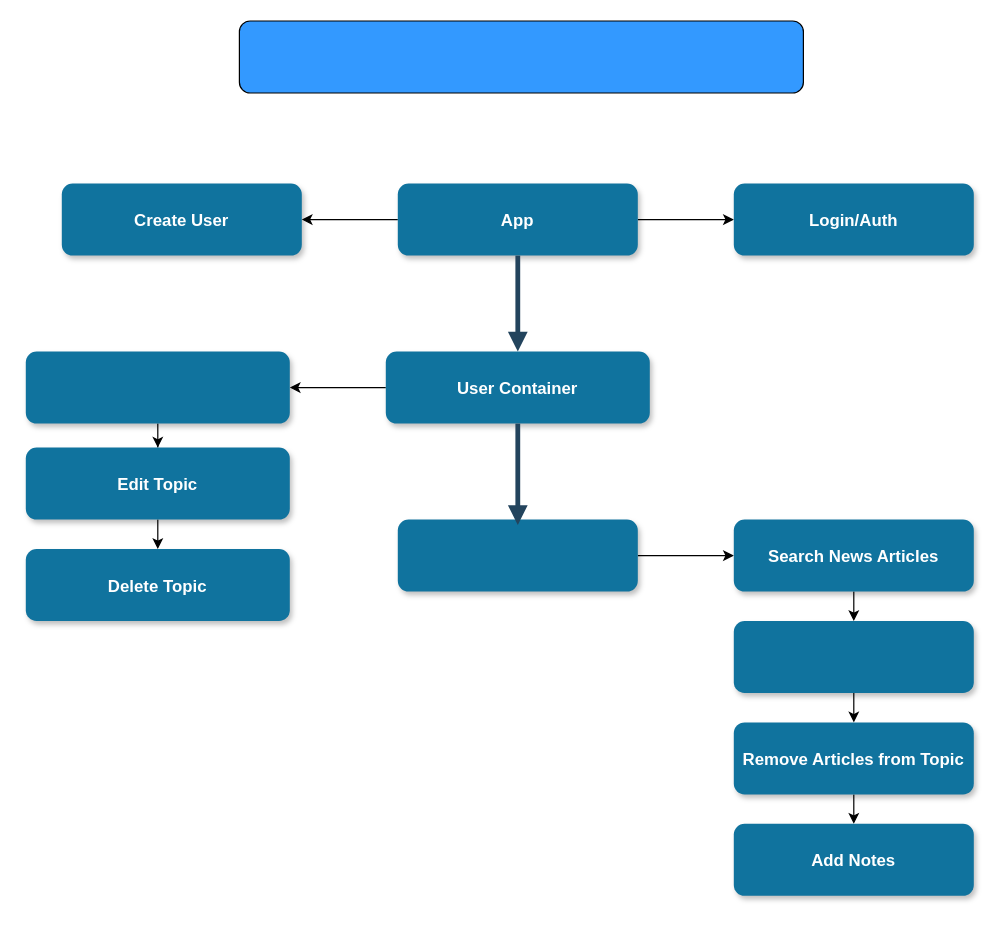
This 1001x925 diagram has some shape labels left out. The centre of each missing label's shape, as x and y in pixels:
"Add Articles to Topic" belongs at point 854,658.
"Create Topic" belongs at point 158,388.
"React Structure" belongs at point 520,56.
"Topic Container" belongs at point 518,556.
